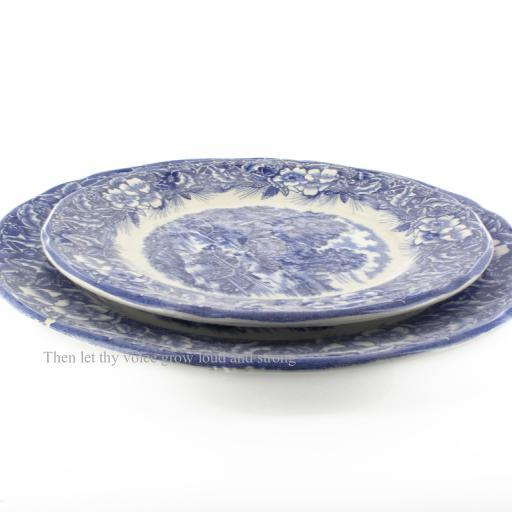Times New Roman: (42, 351, 296, 366)
